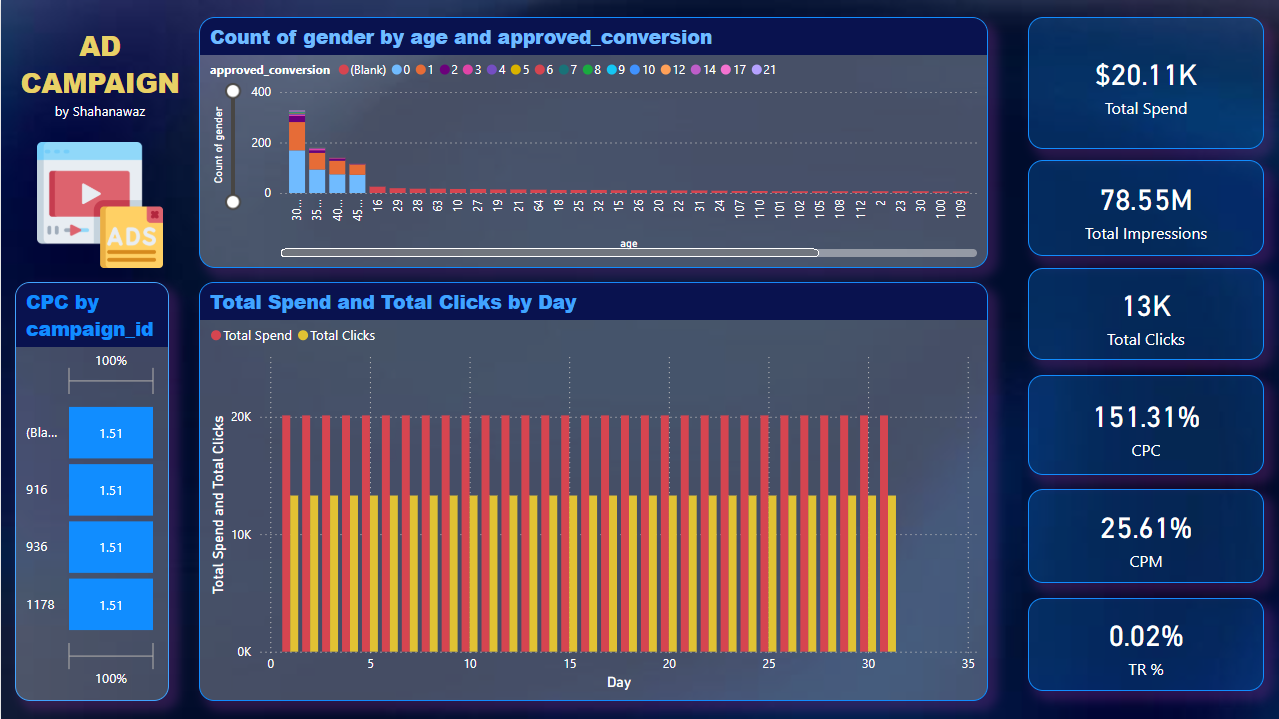

Layout of this report page (visuals, bound fields, positions):
{"tool":"powerbi","page":{"name":"Page 1","canvas":[1280,720],"ordinal":0},"visuals":[{"type":"card","fields":{"Values":["Date.Total Spend"]},"box":[1027.1,16.5,236.4,132.3],"z":0},{"type":"card","fields":{"Values":["Date.Total Impressions"]},"box":[1027.1,160.5,236.4,95.3],"z":1000},{"type":"card","fields":{"Values":["Date.Total Clicks"]},"box":[1027.1,268.4,236.4,91.4],"z":2000},{"type":"card","fields":{"Values":["Date.CTR %"]},"box":[1027.1,598.2,236.4,92.4],"z":3000},{"type":"card","fields":{"Values":["Date.CPM"]},"box":[1027.1,489.2,236.4,93.4],"z":4000},{"type":"card","fields":{"Values":["Date.CPC"]},"box":[1027.1,375.4,236.4,99.2],"z":5000},{"type":"clusteredColumnChart","fields":{"Category":["Date.Date.Variation.Date Hierarchy.Day"],"Y":["Date.Total Spend","Date.Total Clicks"]},"box":[198.4,282.1,788.8,419.2],"z":6000},{"type":"funnel","fields":{"Category":["data (2).campaign_id"],"Y":["Date.CPC"]},"box":[13.6,282.1,154.7,419.2],"z":7000},{"type":"columnChart","fields":{"Category":["data (2).age"],"Y":["CountNonNull(data (2).gender)"],"Series":["data (2).approved_conversion"]},"box":[198.4,16.5,788.8,251.9],"z":8000},{"type":"textbox","title":"AD CAMPAIGN","box":[0,27.2,198.4,133.3],"z":9000},{"type":"image","box":[22.4,142,153.7,126.4],"z":10000}]}

Visuals, with their boxes in screenshot pixels (x1, y1, x2, y2), scaled from the page's 1280x720 canvas onto the 1279x719 screenshot:
card - Date.Total Spend: 1026,16,1263,149
card - Date.Total Impressions: 1026,160,1263,255
card - Date.Total Clicks: 1026,268,1263,359
card - Date.CTR %: 1026,597,1263,690
card - Date.CPM: 1026,489,1263,582
card - Date.CPC: 1026,375,1263,474
clusteredColumnChart - Date.Date.Variation.Date Hierarchy.Day x Date.Total Spend: 198,282,986,700
funnel - data (2).campaign_id x Date.CPC: 14,282,168,700
columnChart - data (2).age x CountNonNull(data (2).gender): 198,16,986,268
"AD CAMPAIGN" textbox: 0,27,198,160
image: 22,142,176,268
